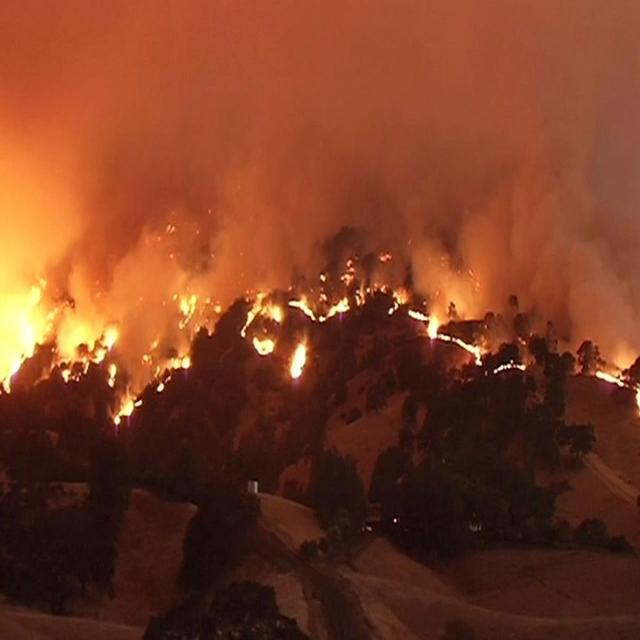Fire: (8, 273, 640, 398)
Smoke: (21, 47, 633, 357)
